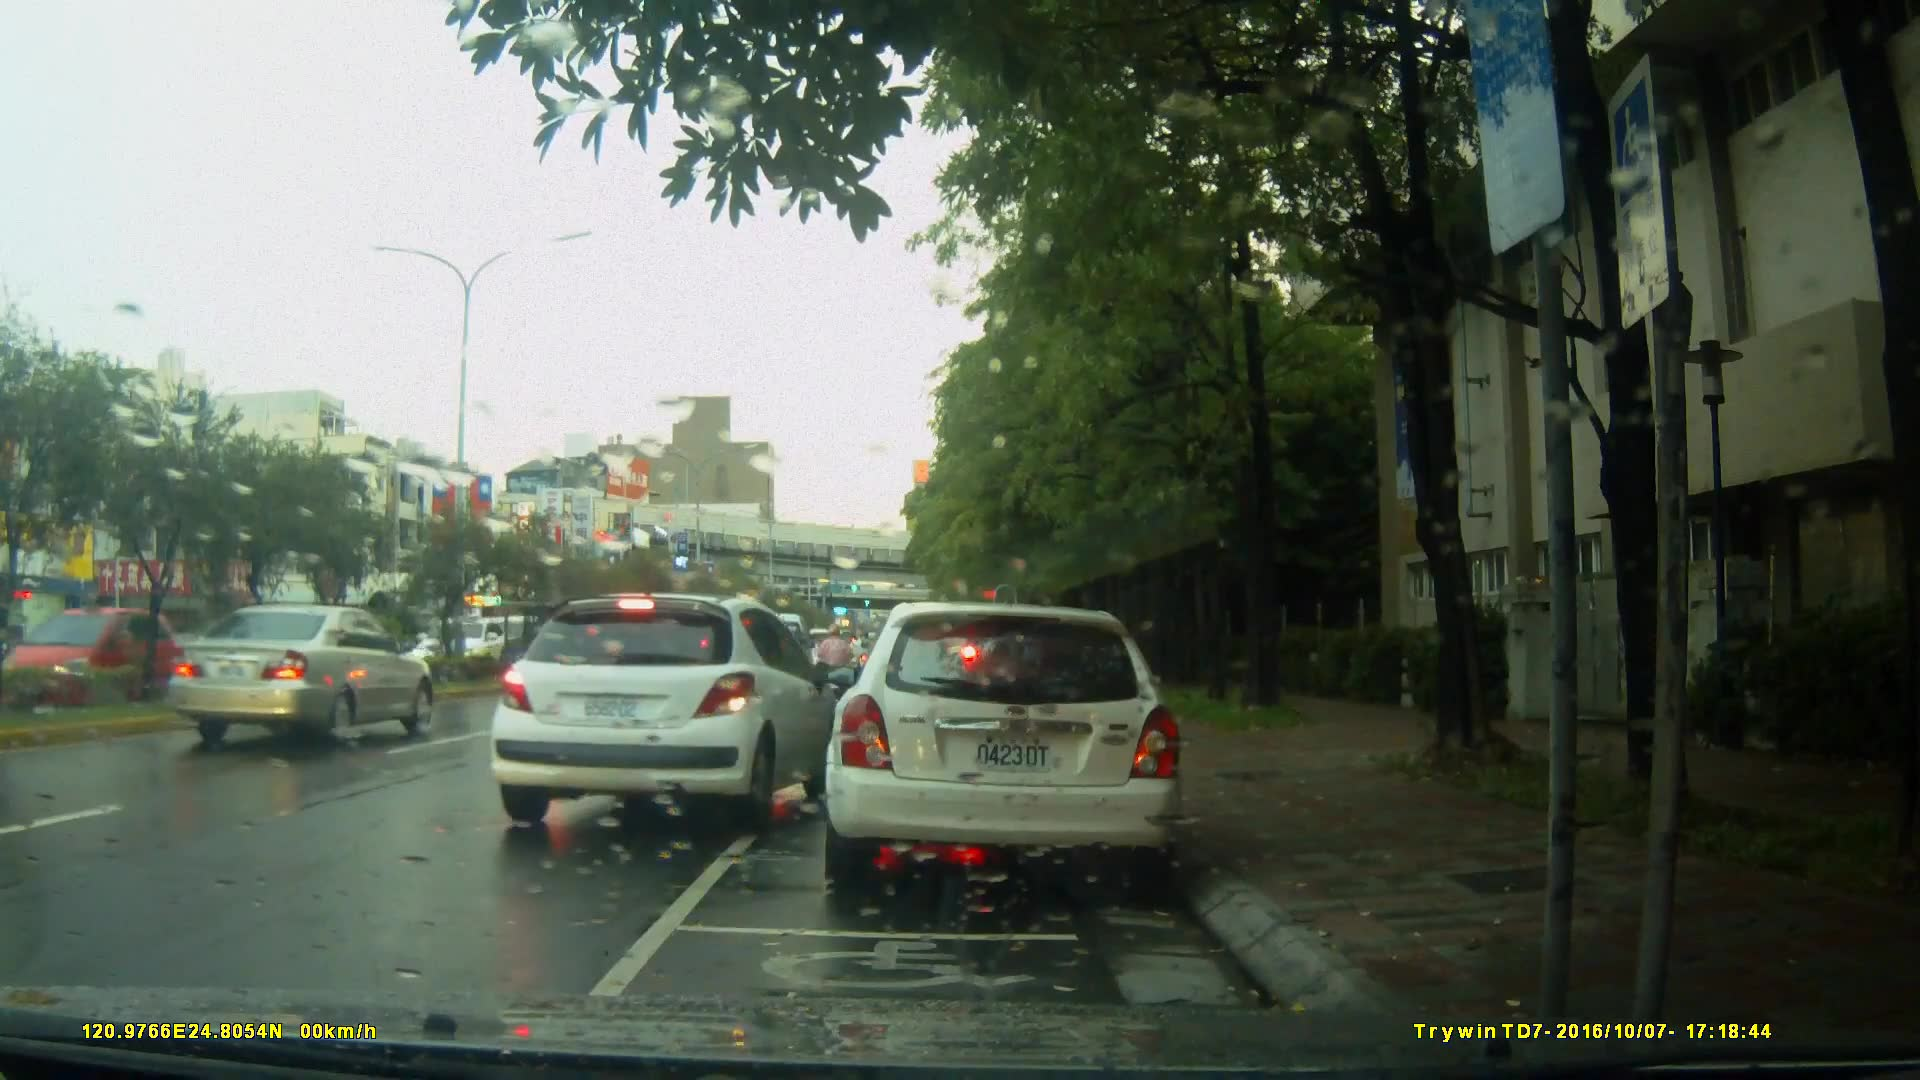rider: (817, 617, 850, 710)
vehicle: (820, 602, 1188, 898), (486, 590, 854, 835), (166, 602, 439, 749), (1, 604, 183, 722)
